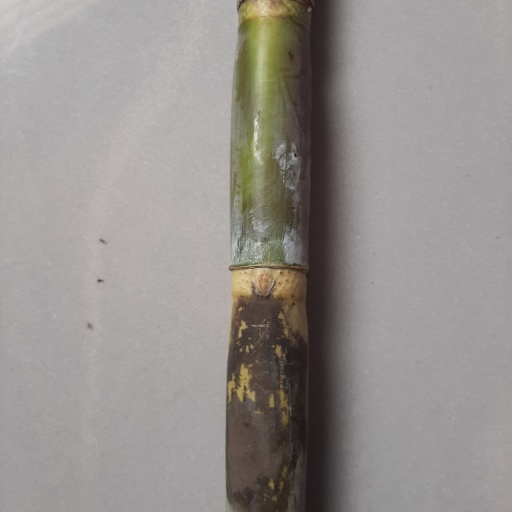Bud: (249, 269, 277, 297)
